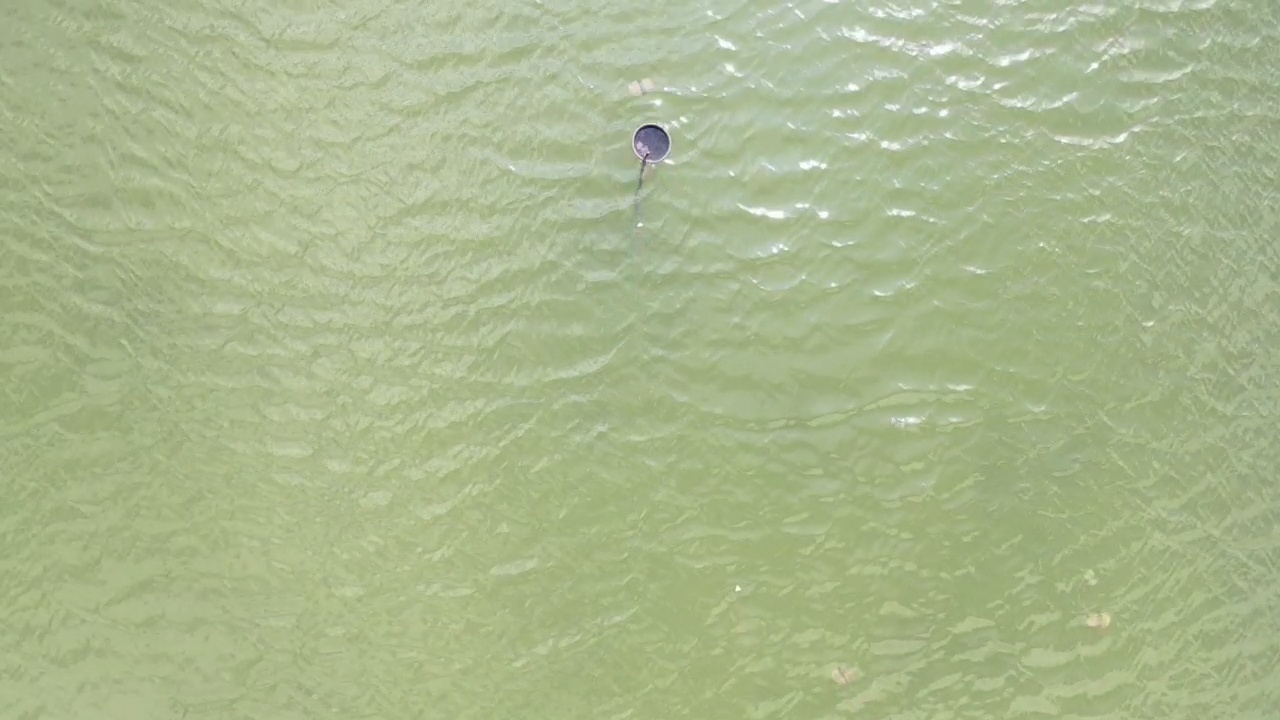meduse: (832, 663, 859, 685), (626, 74, 654, 95), (1090, 609, 1112, 631), (1083, 567, 1099, 585)
